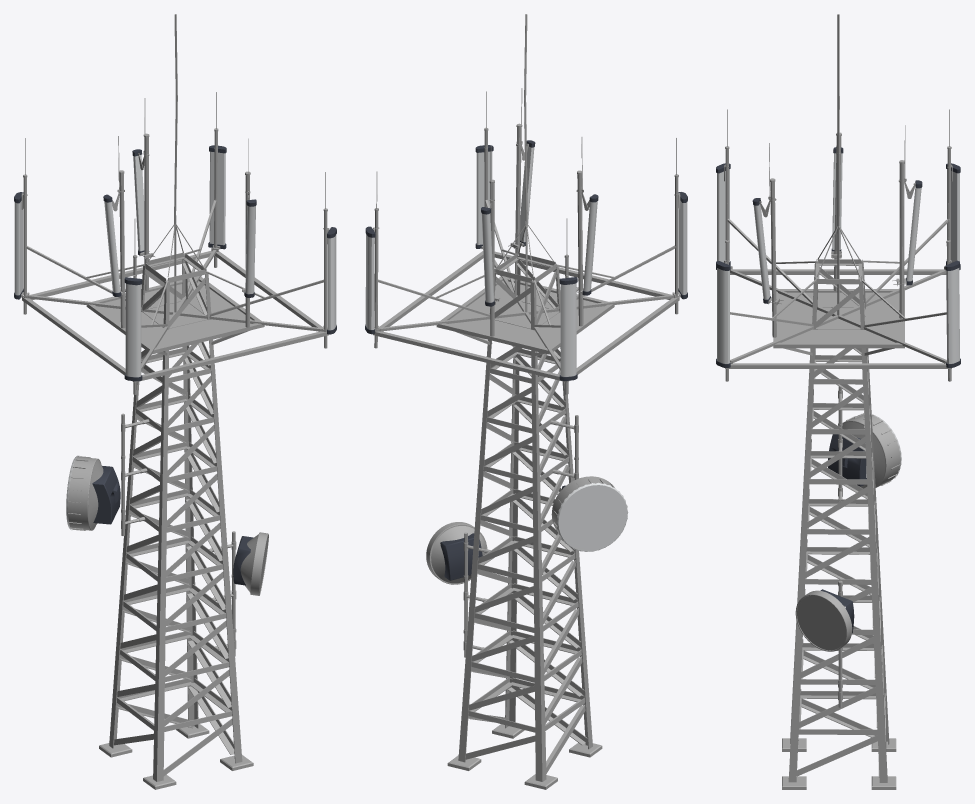
3 renders of one model, left to right at view 1: azimuth 30°, elevation 25°; view 2: azimuth 150°, elevation 25°; view 3: azimuth 270°, elevation 25°, orthographic.
Visible parts, largest first — view 1: Lo-BaseStationTower_01; view 2: Lo-BaseStationTower_01; view 3: Lo-BaseStationTower_01.
Boxes of the visible parts, x1,y1,x2,y2 form: Lo-BaseStationTower_01: (14, 14, 336, 789); Lo-BaseStationTower_01: (365, 14, 687, 789); Lo-BaseStationTower_01: (716, 14, 960, 789).
Size of the model in its own units: 2.25 by 7.6 by 2.25.
1 material, 1 textured.
